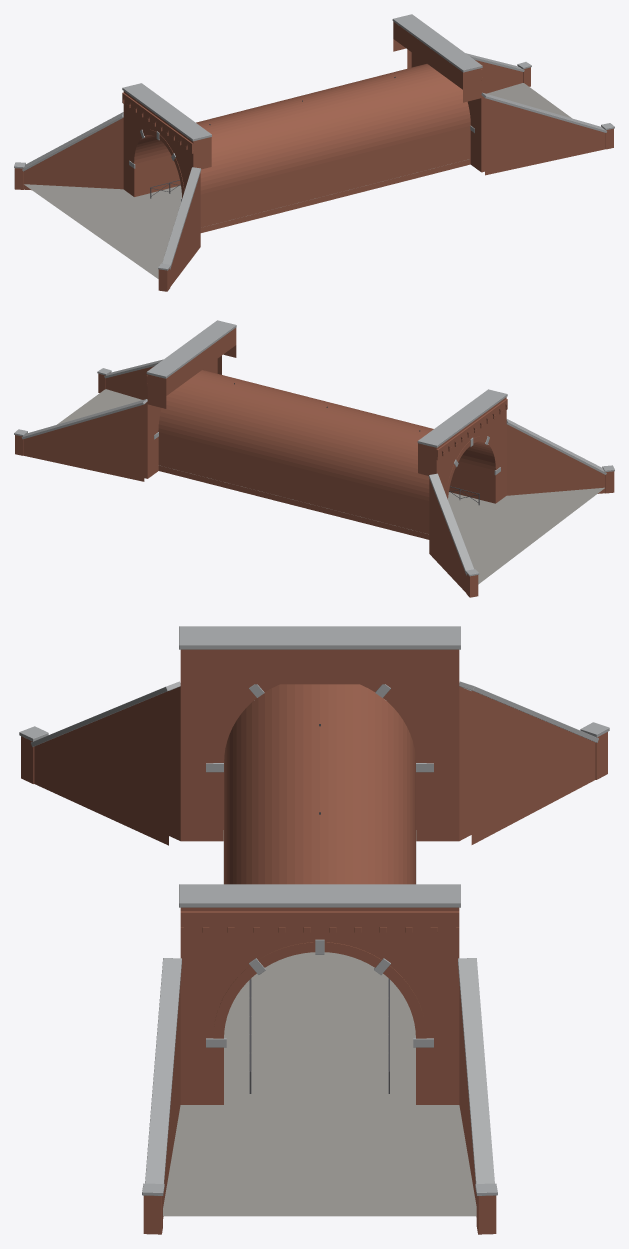
The model's file is tunnel_brasserie.glb.
The picture shows the model from 3 angles, top to bottom: view 1: azimuth 30°, elevation 25°; view 2: azimuth 150°, elevation 25°; view 3: azimuth 270°, elevation 25°; orthographic projection. The views are drawn at different scales.
Visible parts, largest first — view 1: tunnel_brasserie; view 2: tunnel_brasserie; view 3: tunnel_brasserie.
Part boxes in pixels (bbox=[...]): tunnel_brasserie: bbox=[14, 14, 614, 291]; tunnel_brasserie: bbox=[14, 320, 614, 597]; tunnel_brasserie: bbox=[19, 626, 609, 1234].
Bounding box in the file's own units: 50.2 × 10.87 × 26.26.
